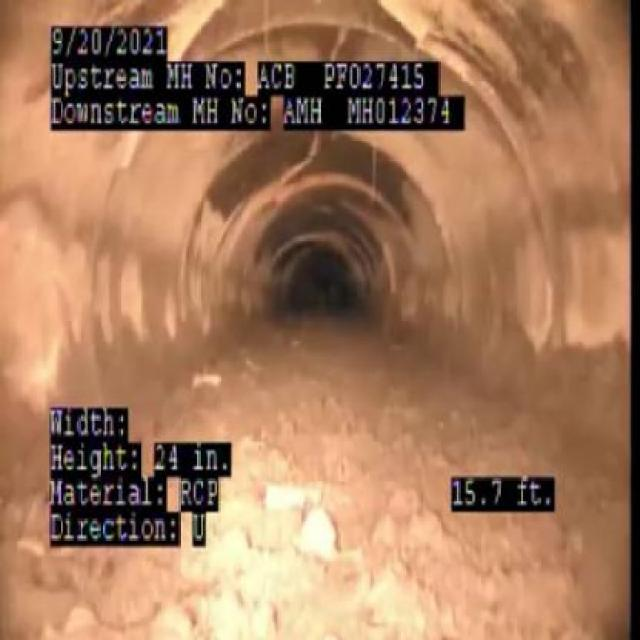Buckling: (328, 0, 477, 60)
